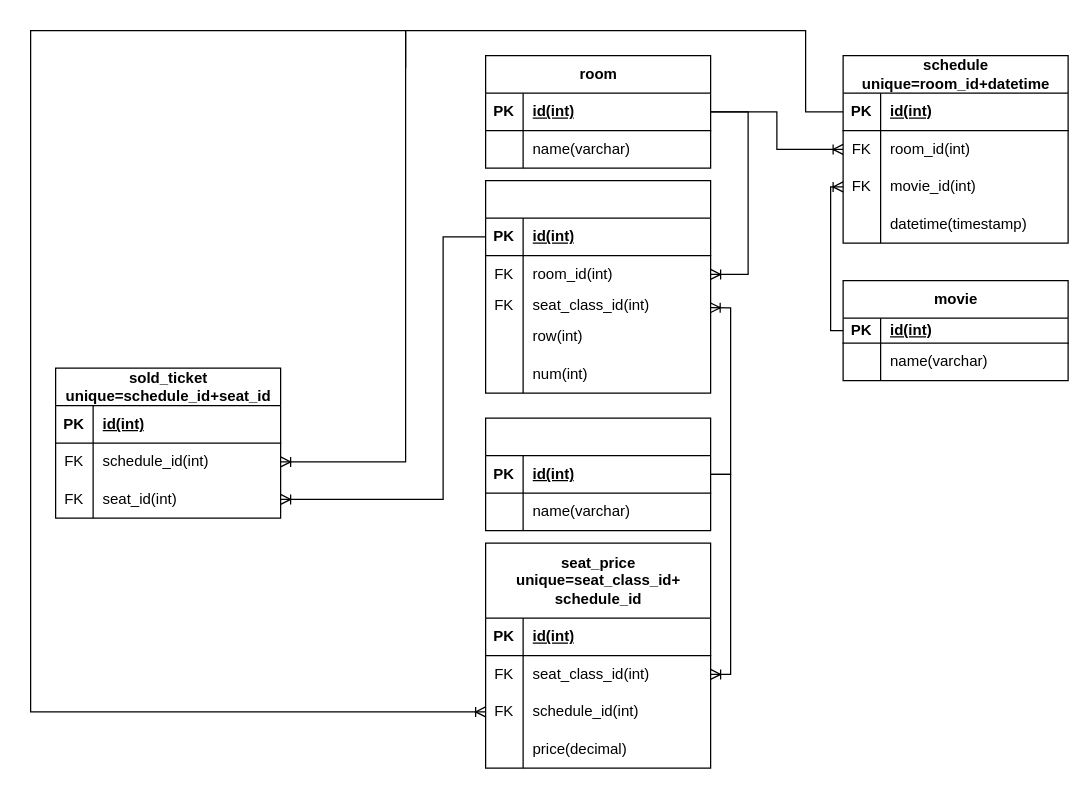
This 1090x790 diagram has some shape labels left out. Here are the shapes that lost their labels. From the top down, the box of each, then its label:
(484, 179, 711, 393): seat unique=room_id+row+num
(484, 417, 711, 531): seat_class
